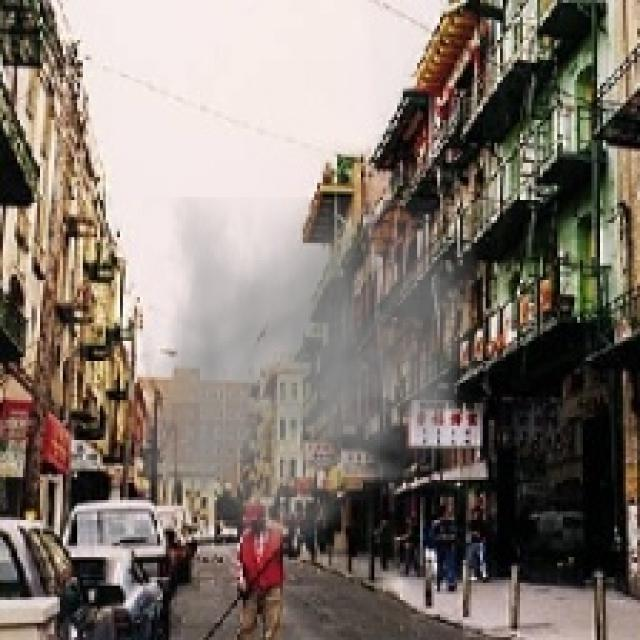smoke: (137, 197, 480, 569)
